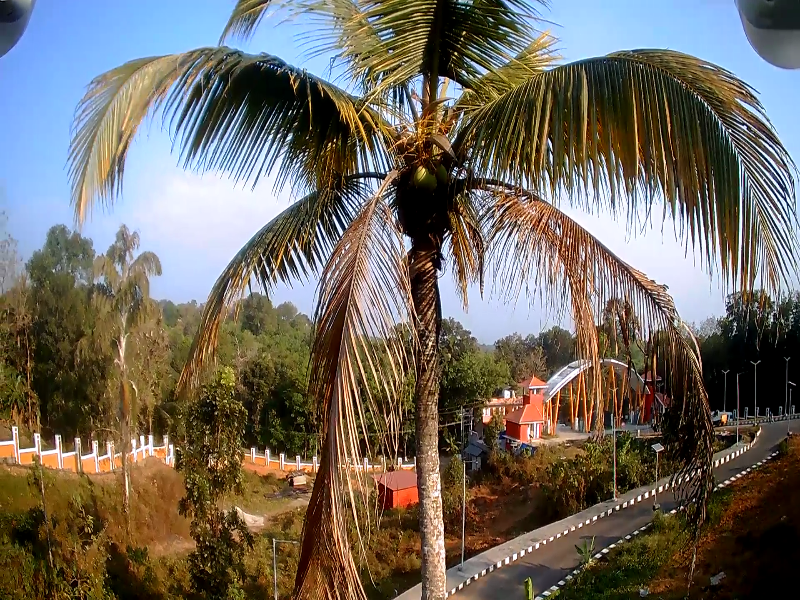coconut: (411, 166, 432, 190)
